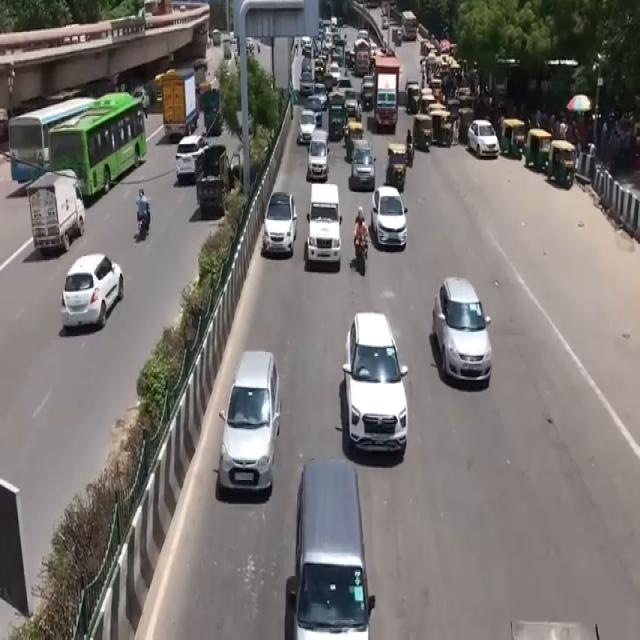BUS: (9, 93, 146, 198)
TRUCK: (164, 69, 203, 141), (375, 58, 401, 135)
